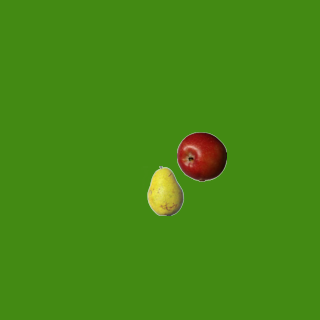Apple Braeburn: (176, 131, 226, 181)
Pear Monster: (140, 165, 190, 215)
